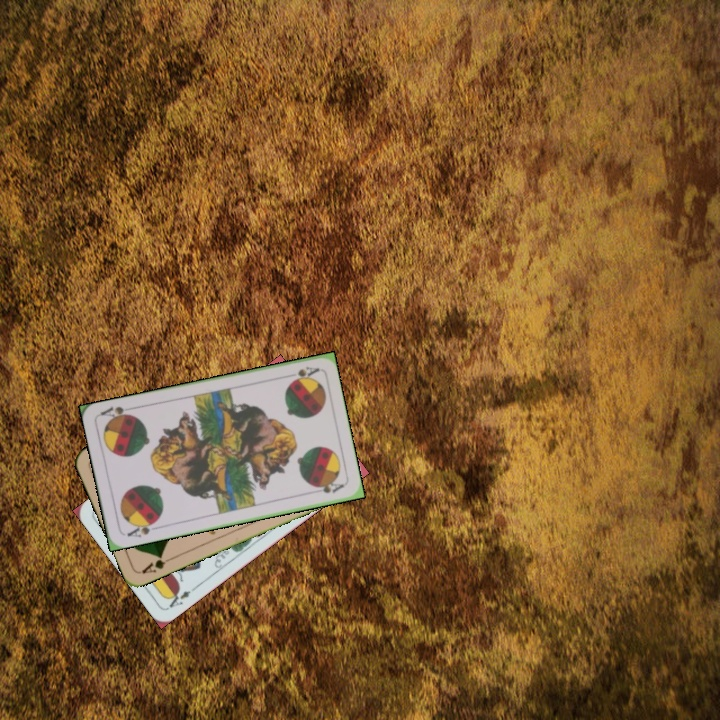EA: (164, 582, 199, 611)
GA: (138, 551, 176, 576)
SA: (123, 516, 162, 540), (281, 363, 321, 384)
